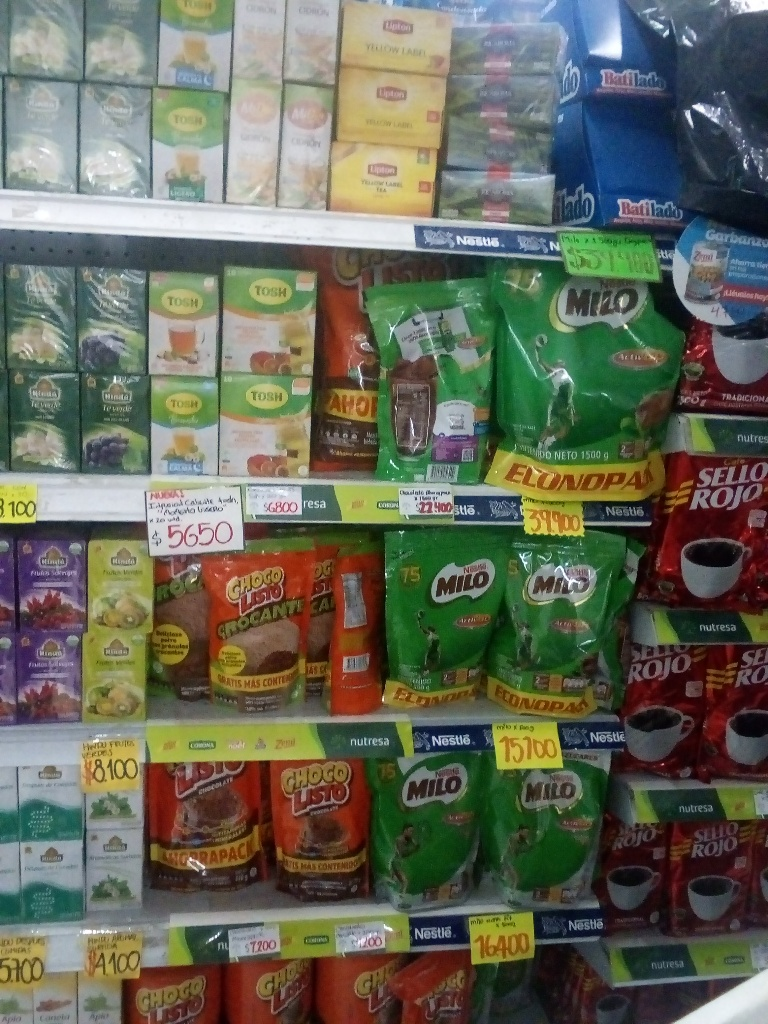COL0170103DYP44000: (144, 760, 265, 904)
COL0170203DYP50000: (375, 528, 492, 713)
COL0170205DYP50000: (372, 758, 501, 916)
